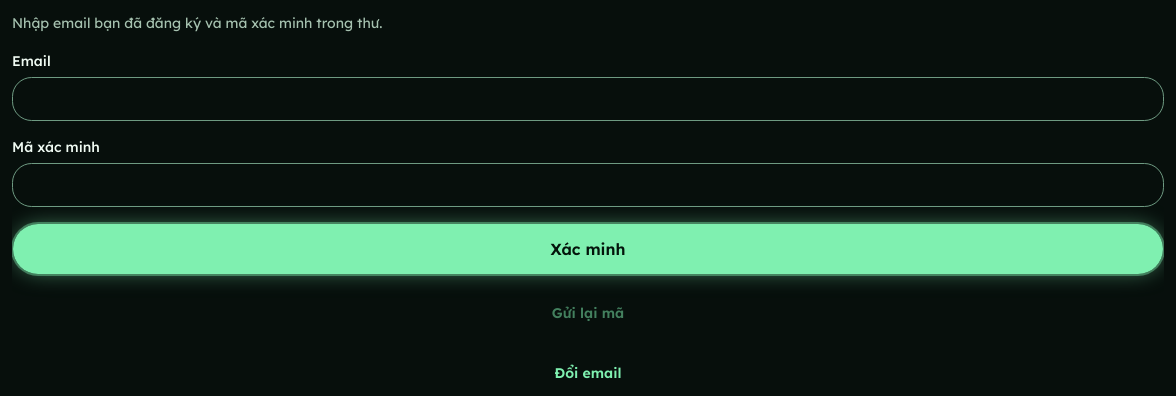
VerifyCodeForm › shows an email field and keeps resend disabled until it is filled, when opened without ?email
Expected: the button "Gửi lại mã" is disabled, left=531, top=291, right=645, bottom=335
Type "hs@example.com" into the field labelled "Email" at (588, 99), box left=12, top=77, right=1164, bottom=121
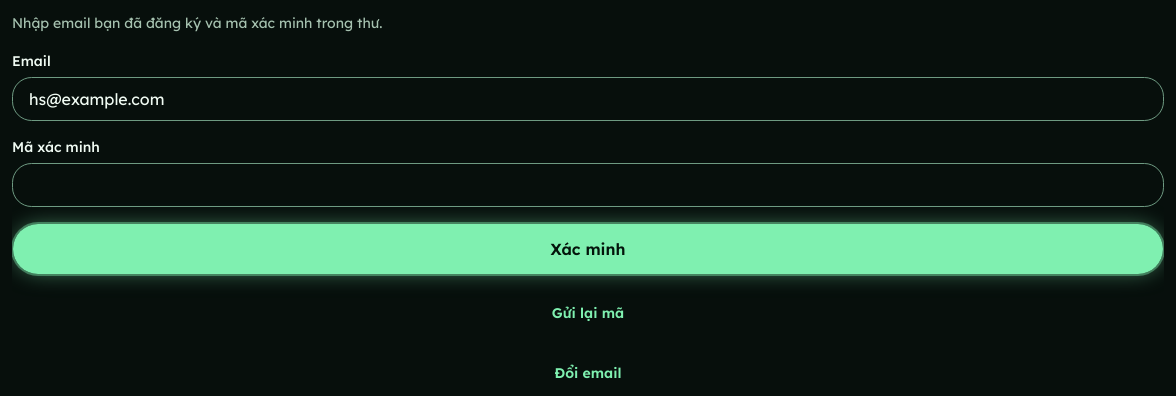
Now the button "Gửi lại mã" is enabled, box left=531, top=291, right=645, bottom=335
